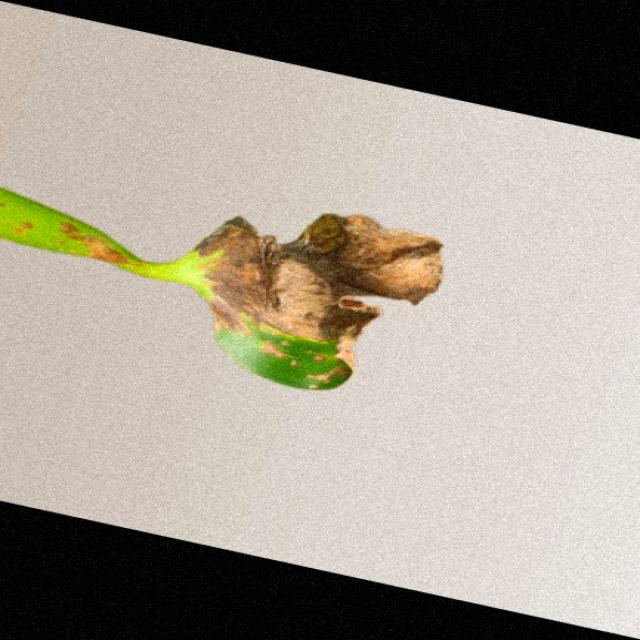daun berpenyakit karat: (0, 189, 441, 389)
